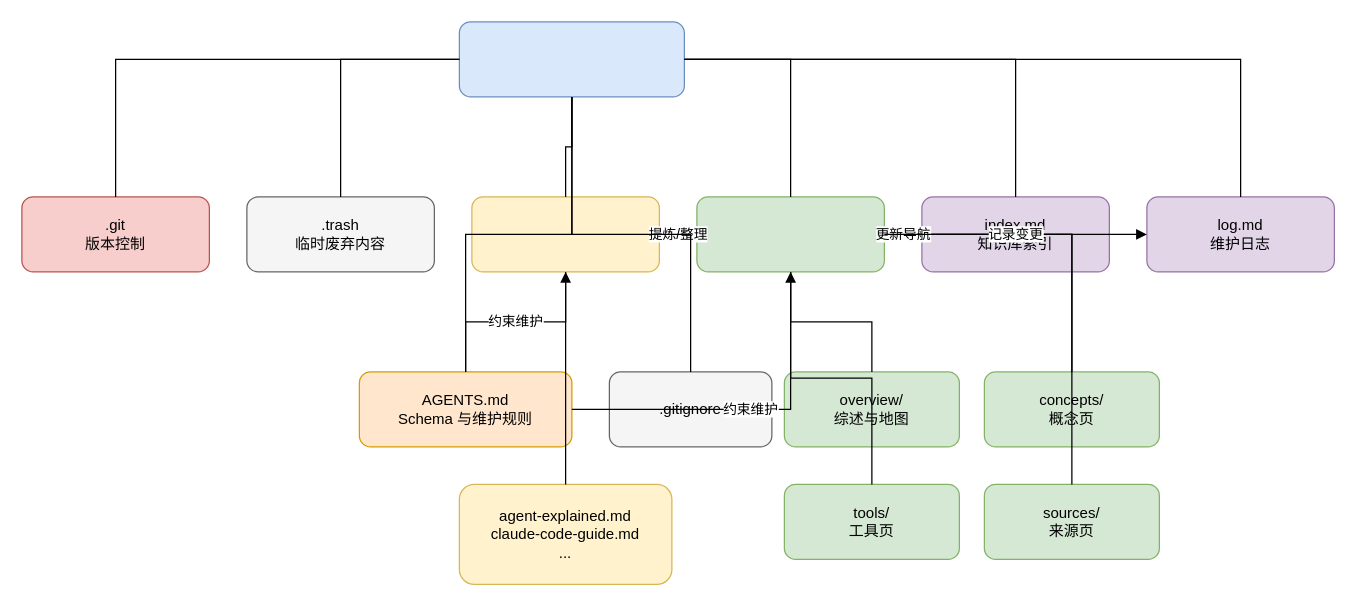
Image size: 1356x606. Some labels were removed from this diagram. The centre of each missing label's shape, as x and y in pixels:
D:\konwledge: the point at 571,59
raw 原始材料层: the point at 565,234
wiki 整理后的知识层: the point at 790,234
